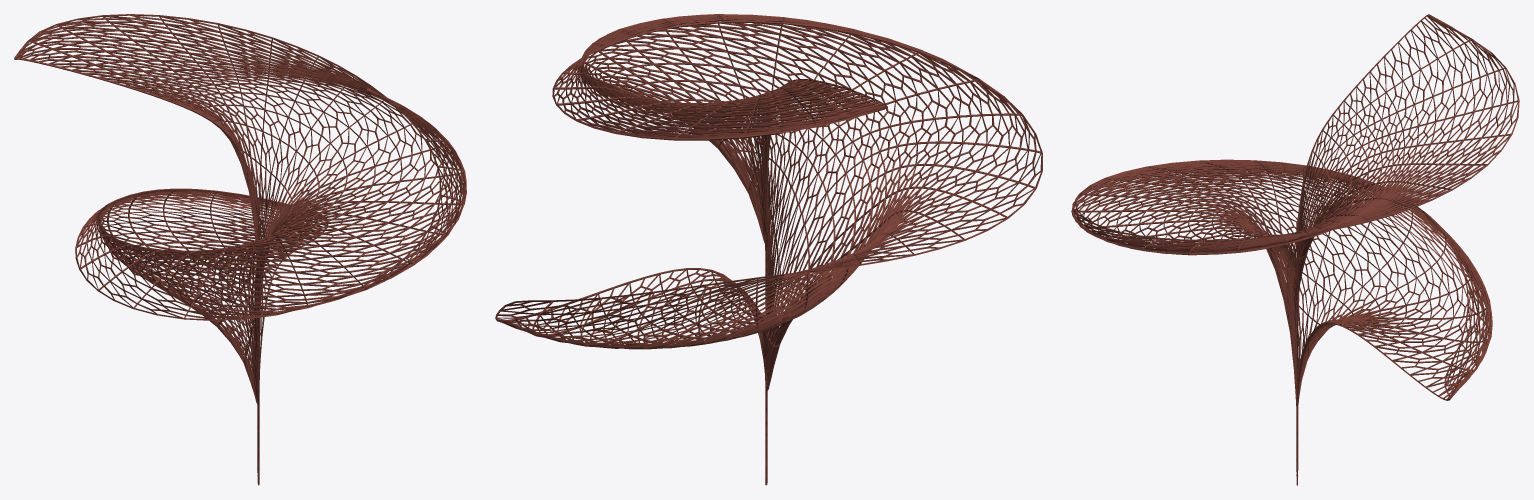
The model's file is ModeloDiniGLB.glb.
The picture shows the model from 3 angles, left to right: view 1: azimuth 30°, elevation 25°; view 2: azimuth 150°, elevation 25°; view 3: azimuth 270°, elevation 25°; orthographic projection. The views are drawn at different scales.
Visible parts, largest first — view 1: Artefato_MatemArte_Fabricacao; view 2: Artefato_MatemArte_Fabricacao; view 3: Artefato_MatemArte_Fabricacao.
Part boxes in pixels (left/top/right/bottom): Artefato_MatemArte_Fabricacao: left=14, top=14, right=466, bottom=485; Artefato_MatemArte_Fabricacao: left=495, top=14, right=1042, bottom=485; Artefato_MatemArte_Fabricacao: left=1071, top=14, right=1519, bottom=485.
Size of the model in its own units: 9.61 by 11.2 by 11.58.
